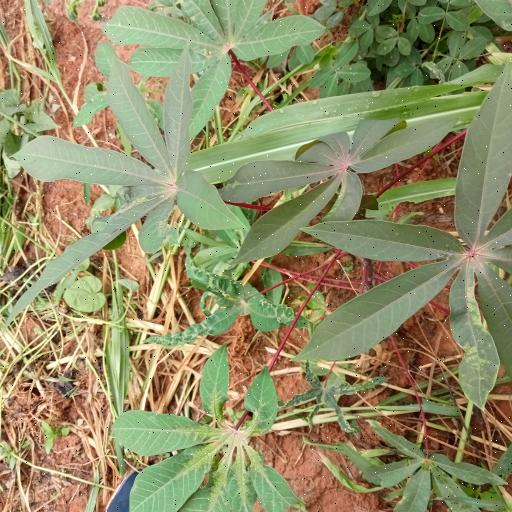Cassava_Mosaic: (22, 40, 226, 306), (228, 122, 449, 256), (118, 351, 300, 512), (100, 3, 326, 113)
